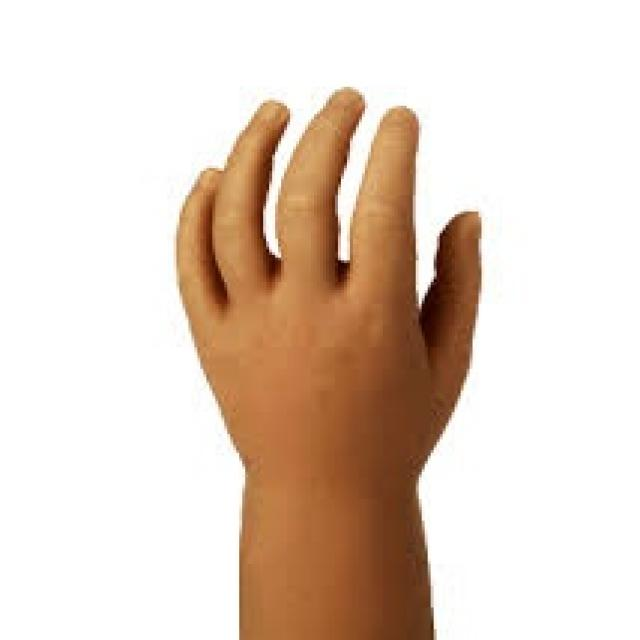bare_hand: (176, 89, 483, 501)
